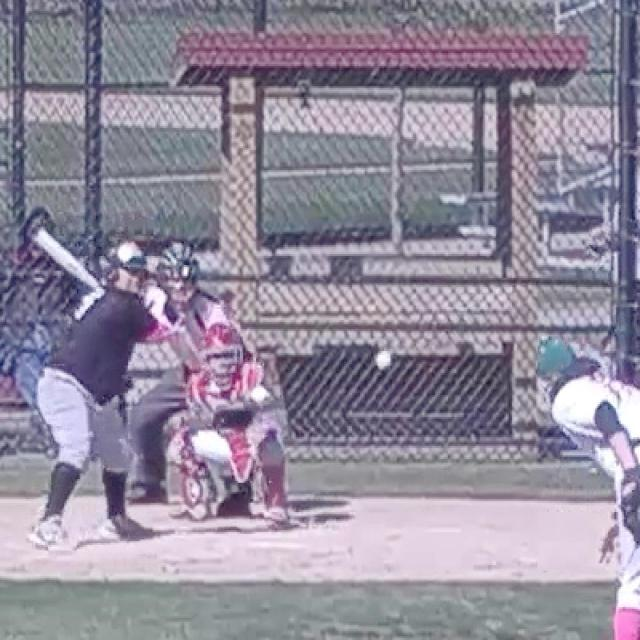baseball: (377, 352, 390, 368)
